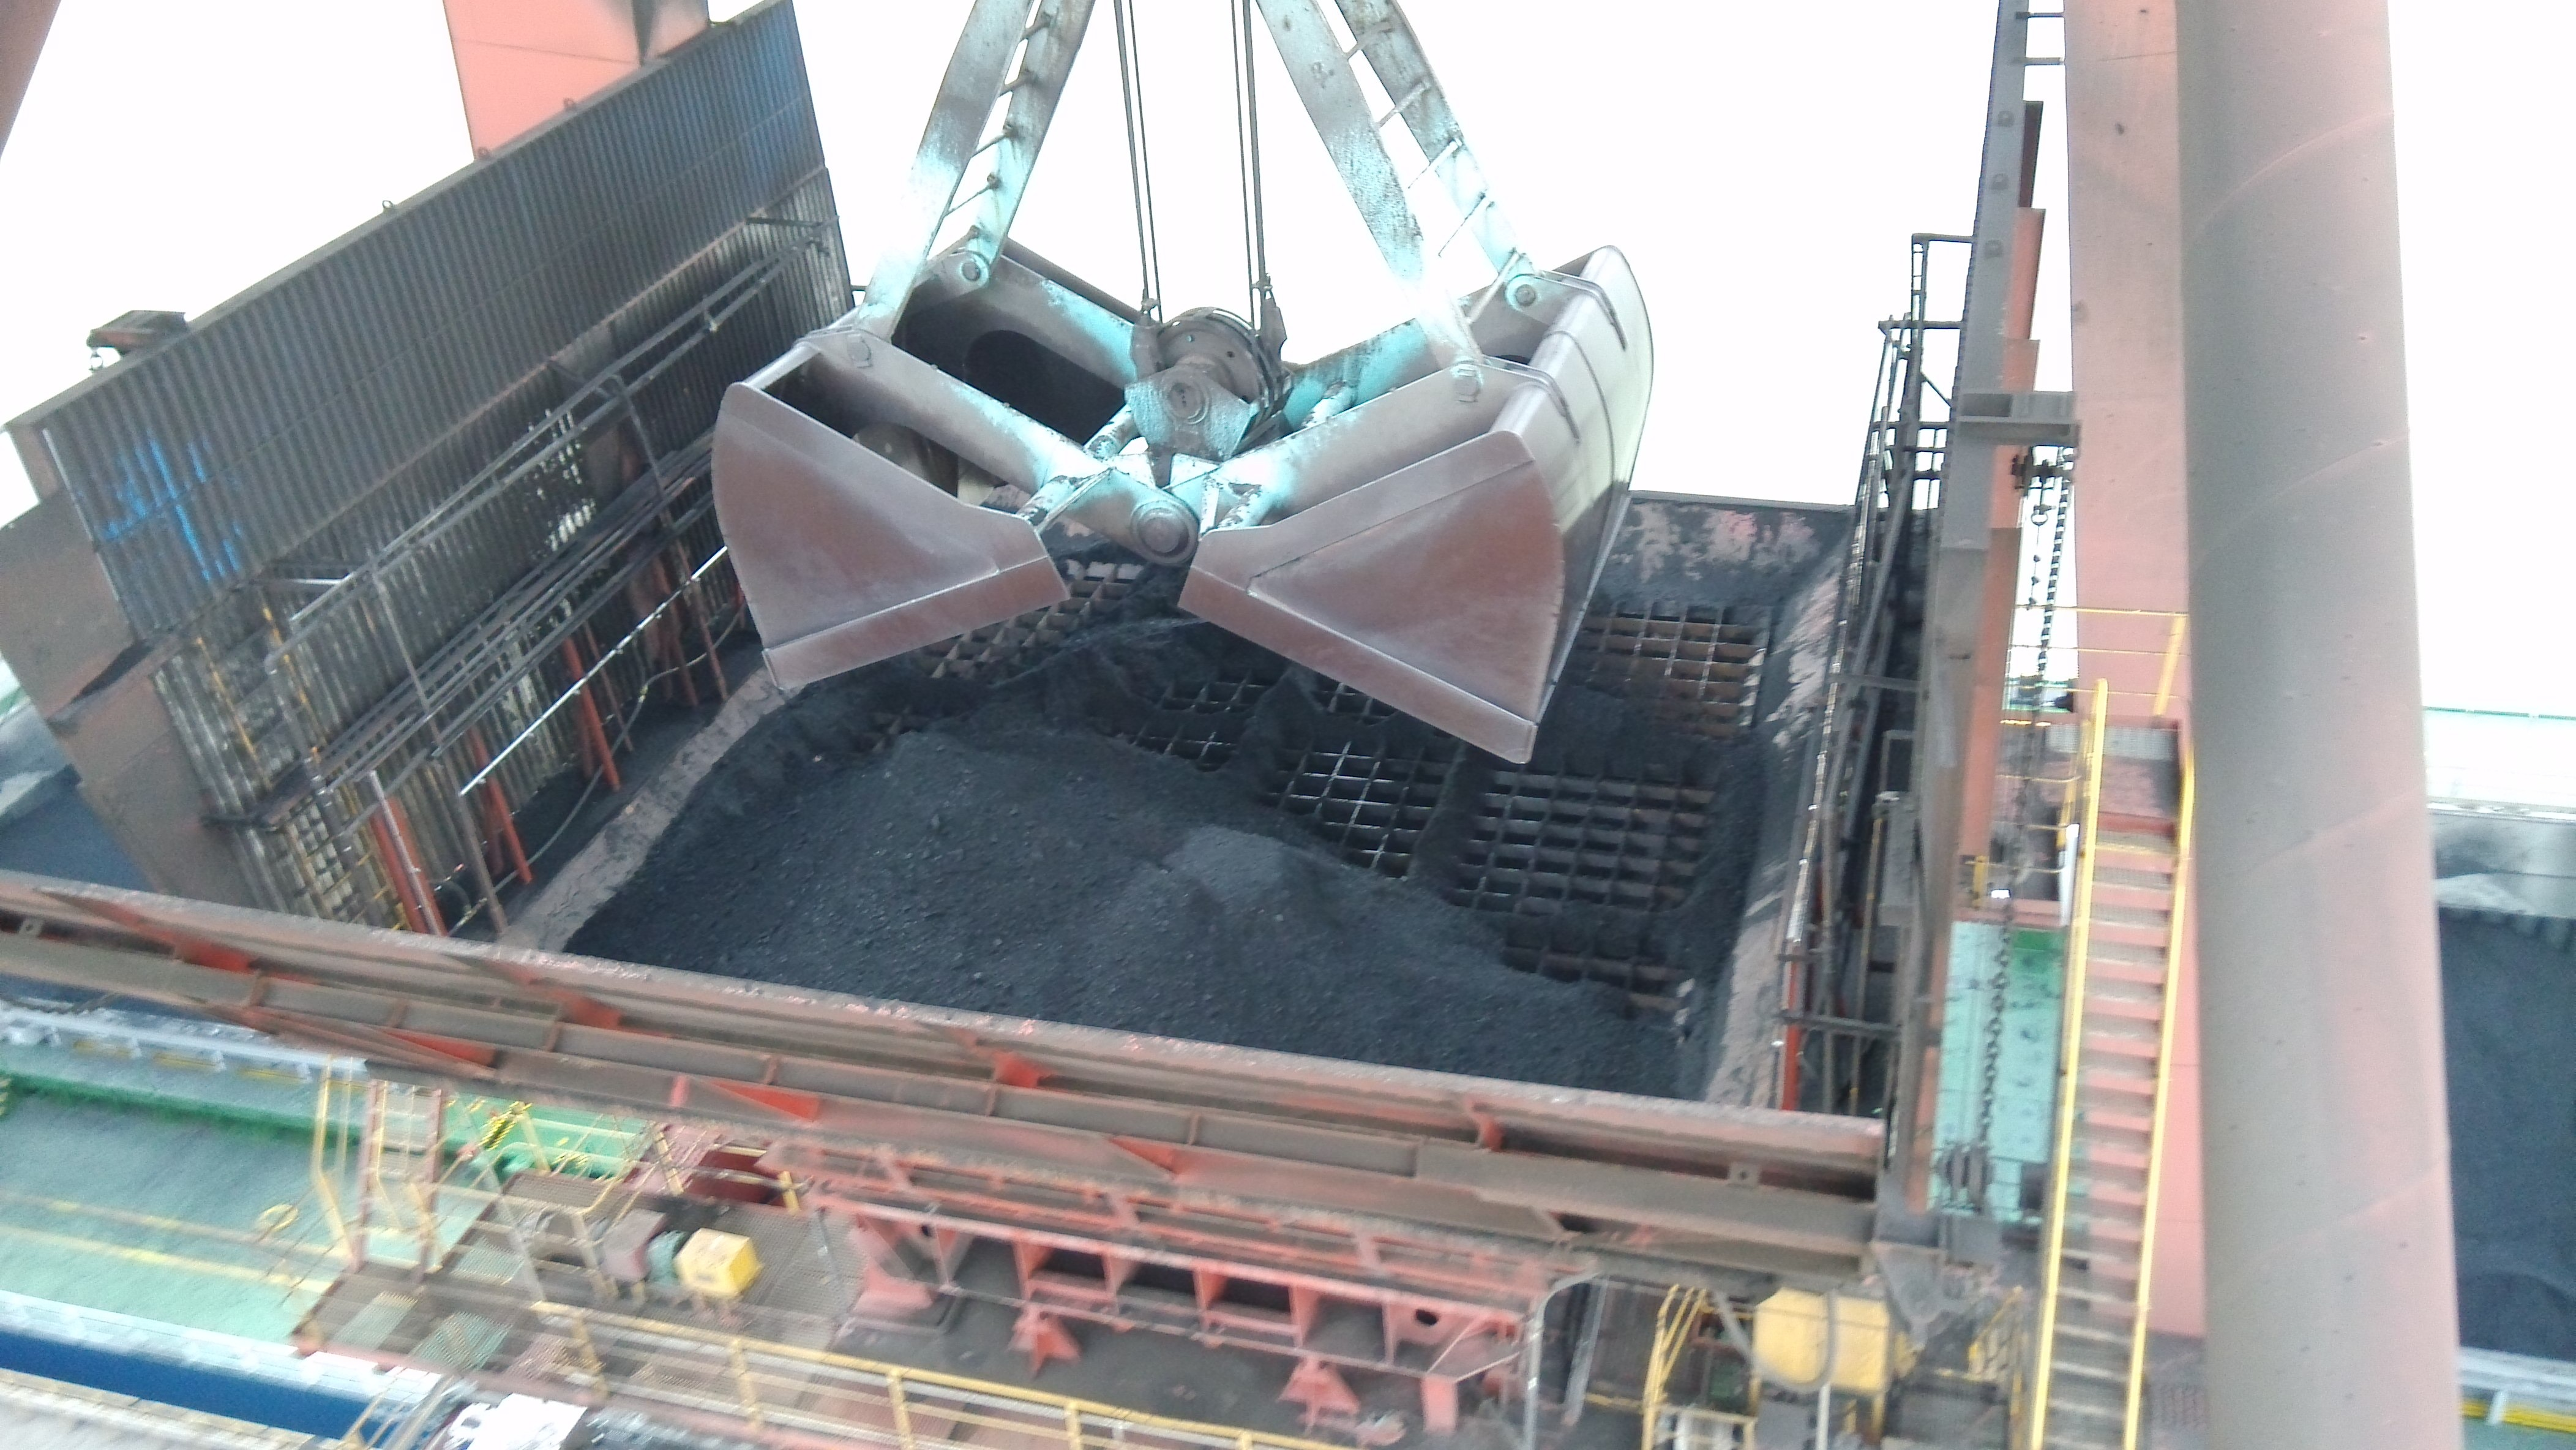grab: (697, 0, 1668, 802)
